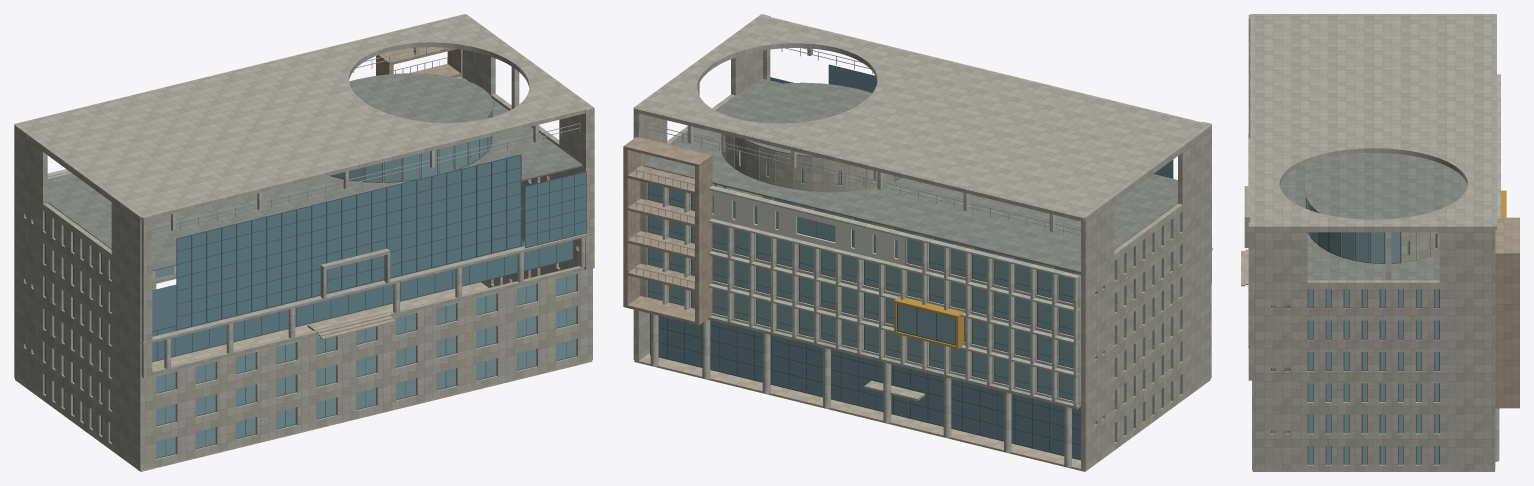
The picture shows the model from 3 angles, left to right: view 1: azimuth 30°, elevation 25°; view 2: azimuth 150°, elevation 25°; view 3: azimuth 270°, elevation 25°; orthographic projection. The views are drawn at different scales.
Parts seen in each view (by area): view 1: mirae__portal, mirae__glass, mirae__roof, mirae__sideglass, mirae__frame, mirae__stone, mirae__fins, mirae__rail, mirae__warmstone, mirae__stair-south, mirae__threshold-south; view 2: mirae__portal, mirae__fins, mirae__sideglass, mirae__roof, mirae__glass, mirae__warmstone, mirae__frame, mirae__northwhite, mirae__stone, mirae__rail, mirae__gold; view 3: mirae__portal, mirae__roof, mirae__sideglass, mirae__warmstone, mirae__frame, mirae__fins, mirae__stone.
Boxes of the visible parts, x1=… form: mirae__portal: x1=14, y1=14, x2=594, y2=469; mirae__glass: x1=152, y1=154, x2=585, y2=361; mirae__roof: x1=47, y1=73, x2=582, y2=271; mirae__sideglass: x1=26, y1=112, x2=576, y2=458; mirae__frame: x1=25, y1=113, x2=586, y2=458; mirae__stone: x1=15, y1=282, x2=592, y2=471; mirae__fins: x1=47, y1=47, x2=585, y2=368; mirae__rail: x1=152, y1=47, x2=580, y2=233; mirae__warmstone: x1=376, y1=47, x2=462, y2=77; mirae__stair-south: x1=316, y1=313, x2=395, y2=339; mirae__threshold-south: x1=307, y1=307, x2=387, y2=330; mirae__portal: x1=633, y1=14, x2=1212, y2=469; mirae__fins: x1=640, y1=48, x2=1080, y2=467; mirae__sideglass: x1=648, y1=162, x2=1180, y2=441; mirae__roof: x1=644, y1=78, x2=1177, y2=273; mirae__glass: x1=658, y1=64, x2=1172, y2=459; mirae__warmstone: x1=623, y1=137, x2=712, y2=325; mirae__frame: x1=647, y1=64, x2=1180, y2=460; mirae__northwhite: x1=712, y1=186, x2=904, y2=265; mirae__stone: x1=634, y1=353, x2=1210, y2=471; mirae__rail: x1=628, y1=48, x2=1080, y2=288; mirae__gold: x1=894, y1=296, x2=963, y2=348; mirae__portal: x1=1244, y1=14, x2=1499, y2=470; mirae__roof: x1=1280, y1=152, x2=1467, y2=280; mirae__sideglass: x1=1271, y1=197, x2=1438, y2=464; mirae__warmstone: x1=1495, y1=217, x2=1519, y2=408; mirae__frame: x1=1271, y1=200, x2=1439, y2=464; mirae__fins: x1=1386, y1=74, x2=1500, y2=461; mirae__stone: x1=1252, y1=470, x2=1494, y2=471.
Size of the model in its own units: 52.43 by 28.23 by 29.05.
Materials: 11 (5 with a texture image).
